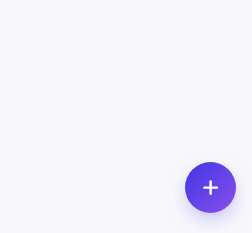
Test case: SpeedDialFab › expõe estado acessível para navegação por teclado
The image size is (252, 233).
Click the button named "Abrir ações" at (210, 188), box top-left (185, 162), bottom-right (236, 213)
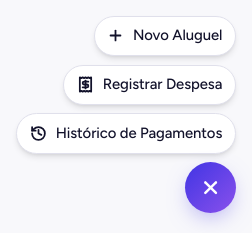
Result: the button named "Fechar ações" is expanded at top-left (185, 162), bottom-right (236, 213)
